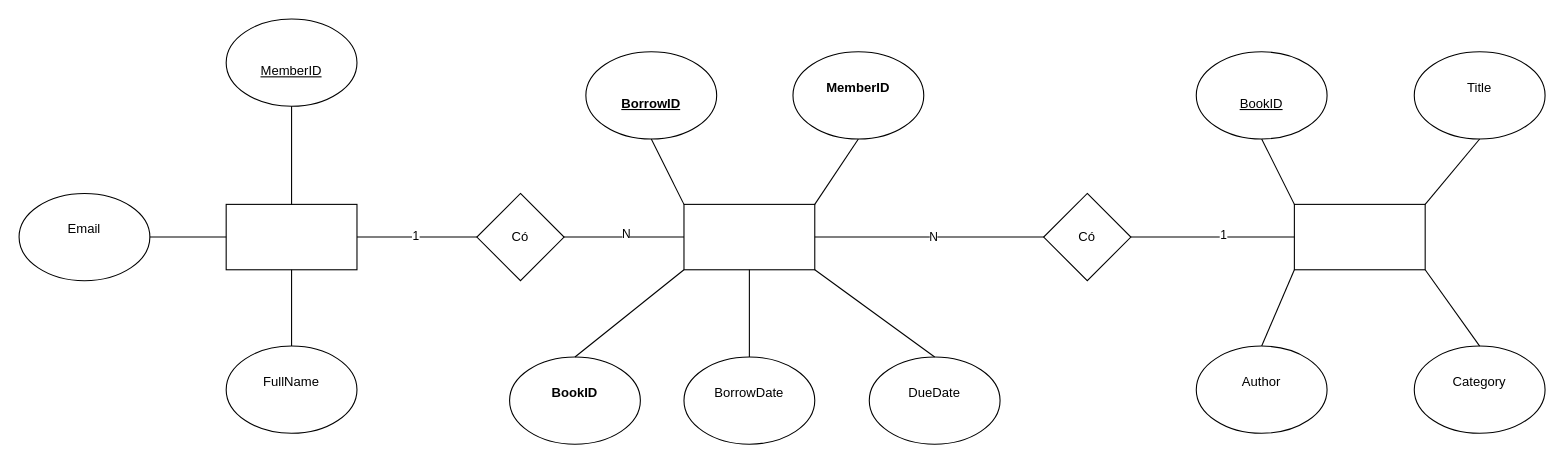
The diagram is 1564 pixels wide and 463 high, and some of its shapes have lost their labels. The box of each missing label's shape, as (x1, y1, x2, y2) in pixels:
Book: (1293, 203, 1425, 270)
Borrowing: (683, 203, 815, 270)
Member: (225, 203, 357, 270)
